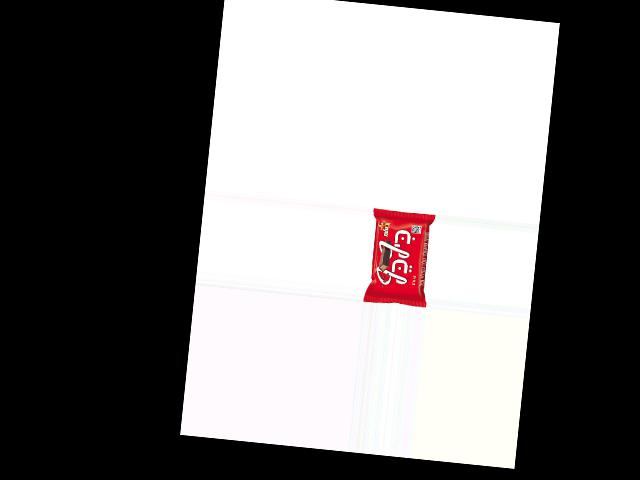chocolate: (363, 208, 436, 307)
